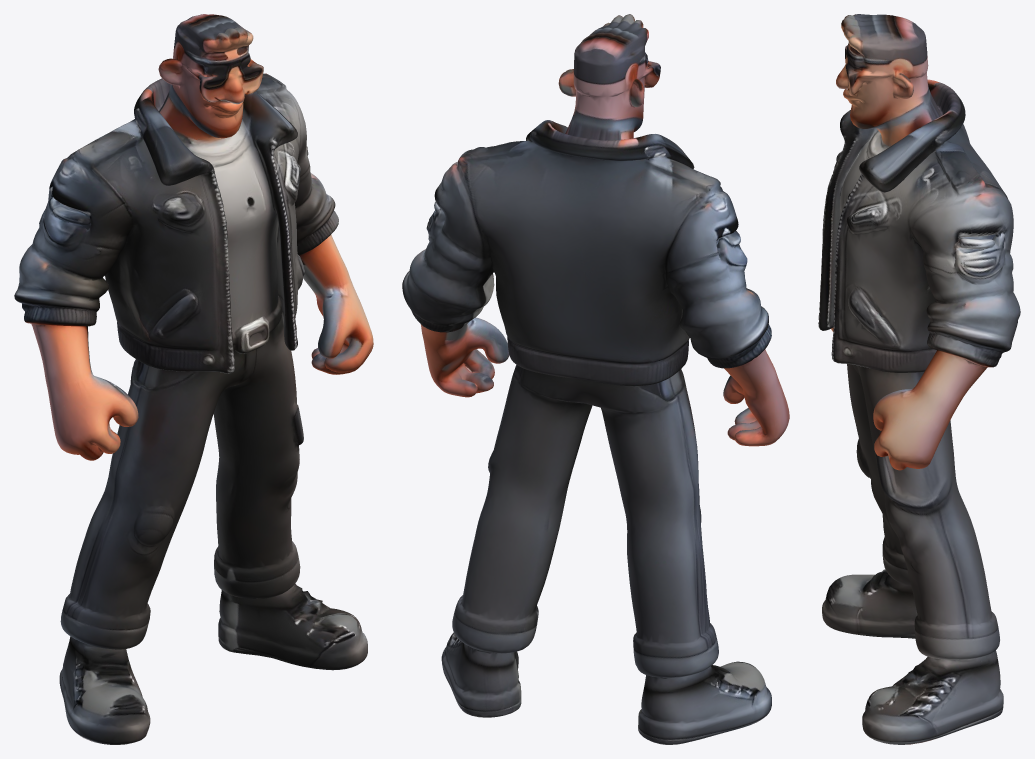
Rendered from rival-driver.glb.
3 renders of one model, left to right at view 1: azimuth 30°, elevation 25°; view 2: azimuth 150°, elevation 25°; view 3: azimuth 270°, elevation 25°, orthographic. The views are drawn at different scales.
Visible parts, largest first — view 1: tripo_node_20f0b37b-3137-45a5-81ea-050aeebadf24; view 2: tripo_node_20f0b37b-3137-45a5-81ea-050aeebadf24; view 3: tripo_node_20f0b37b-3137-45a5-81ea-050aeebadf24.
Boxes of the visible parts, x1,y1,x2,y2 form: tripo_node_20f0b37b-3137-45a5-81ea-050aeebadf24: (14, 14, 373, 744); tripo_node_20f0b37b-3137-45a5-81ea-050aeebadf24: (402, 14, 789, 744); tripo_node_20f0b37b-3137-45a5-81ea-050aeebadf24: (818, 14, 1020, 744).
Bounding box in the file's own units: 0.5251 × 0.9998 × 0.2781.
Materials: 1 (1 with a texture image).
